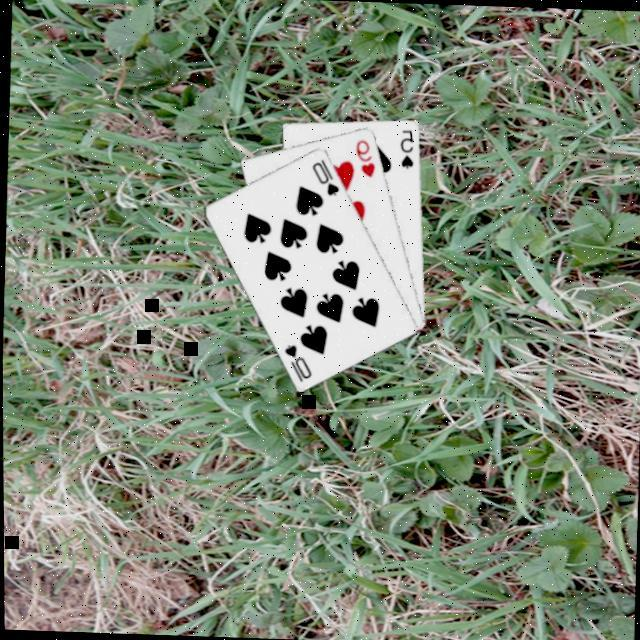10S: (277, 338, 313, 384), (306, 154, 340, 196)
5S: (394, 124, 416, 170)
9H: (348, 134, 376, 180)
